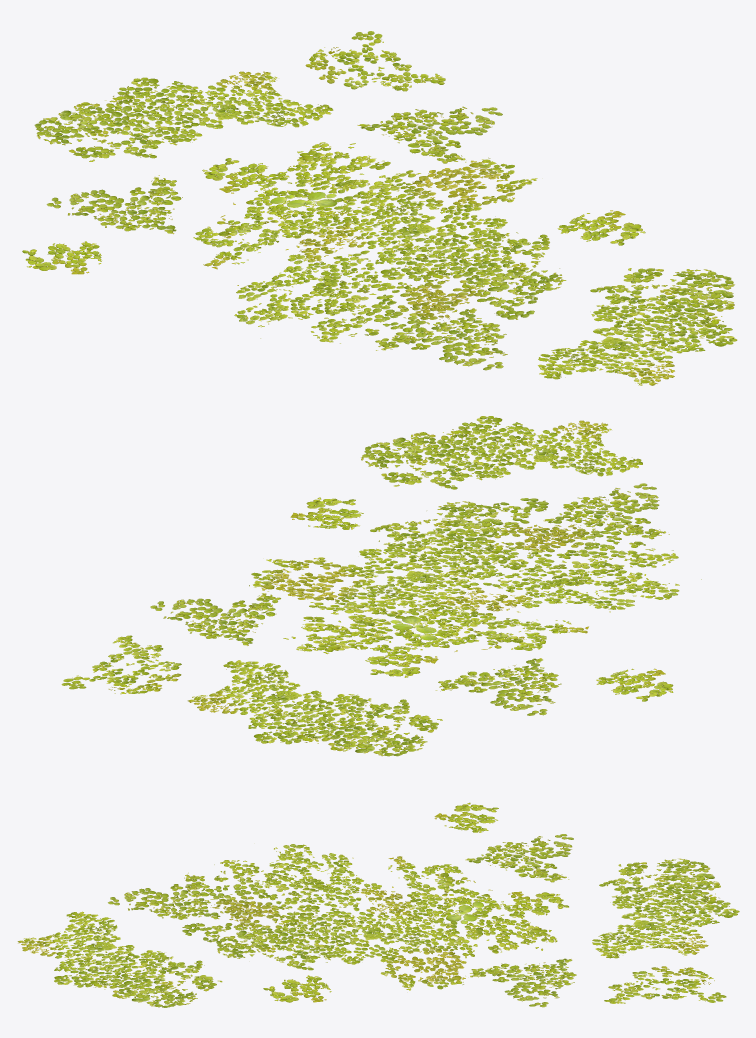
Rendered from SM_Plant_Water_03.fbx.
The picture shows the model from 3 angles, top to bottom: view 1: azimuth 30°, elevation 25°; view 2: azimuth 150°, elevation 25°; view 3: azimuth 270°, elevation 25°; orthographic projection. The views are drawn at different scales.
Visible parts, largest first — view 1: SM_Plant_Water_03; view 2: SM_Plant_Water_03; view 3: SM_Plant_Water_03.
Boxes of the visible parts, x1,y1,x2,y2 form: SM_Plant_Water_03: (22, 31, 737, 385); SM_Plant_Water_03: (61, 416, 701, 756); SM_Plant_Water_03: (17, 802, 739, 1007).
Size of the model in its own units: 340 by 443 by 0.946.
Materials: 1 (1 with a texture image).
